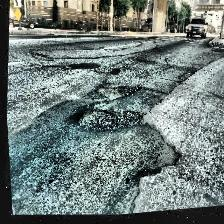pothole: (69, 104, 142, 138), (92, 82, 140, 106)
